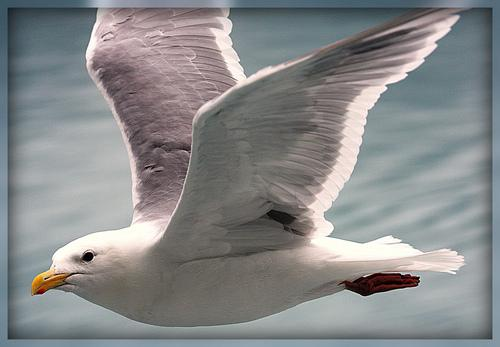002.Laysan_Albatross: (30, 7, 467, 330)
